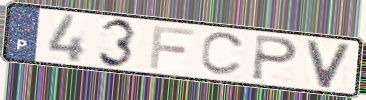3: (95, 18, 145, 70)
4: (45, 13, 89, 64)
C: (198, 31, 248, 78)
F: (147, 24, 197, 71)
P: (249, 33, 301, 83)
V: (304, 39, 353, 91)
